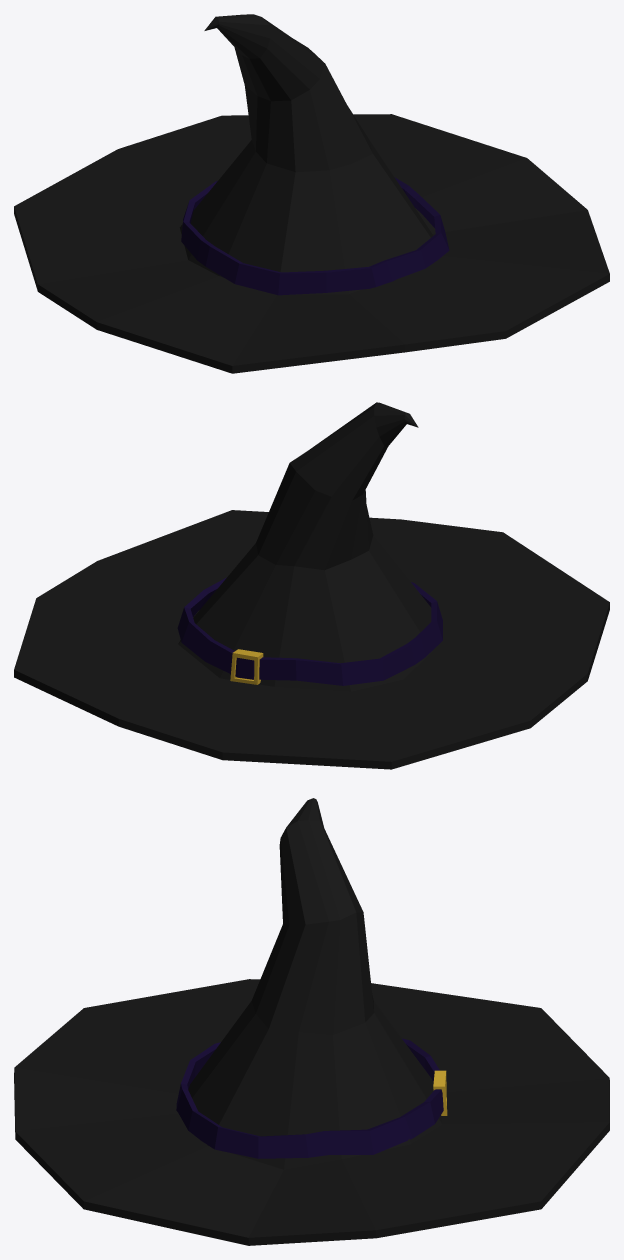
File: hat_witch.glb
The picture shows the model from 3 angles, top to bottom: view 1: azimuth 30°, elevation 25°; view 2: azimuth 150°, elevation 25°; view 3: azimuth 270°, elevation 25°; orthographic projection. The views are drawn at different scales.
Parts seen in each view (by area): view 1: Witch_Hat_Plane.001; view 2: Witch_Hat_Plane.001; view 3: Witch_Hat_Plane.001.
Boxes of the visible parts, x1,y1,x2,y2 form: Witch_Hat_Plane.001: [14, 14, 609, 373]; Witch_Hat_Plane.001: [14, 402, 609, 769]; Witch_Hat_Plane.001: [14, 798, 609, 1245].
Size of the model in its own units: 1 by 0.5125 by 1.
